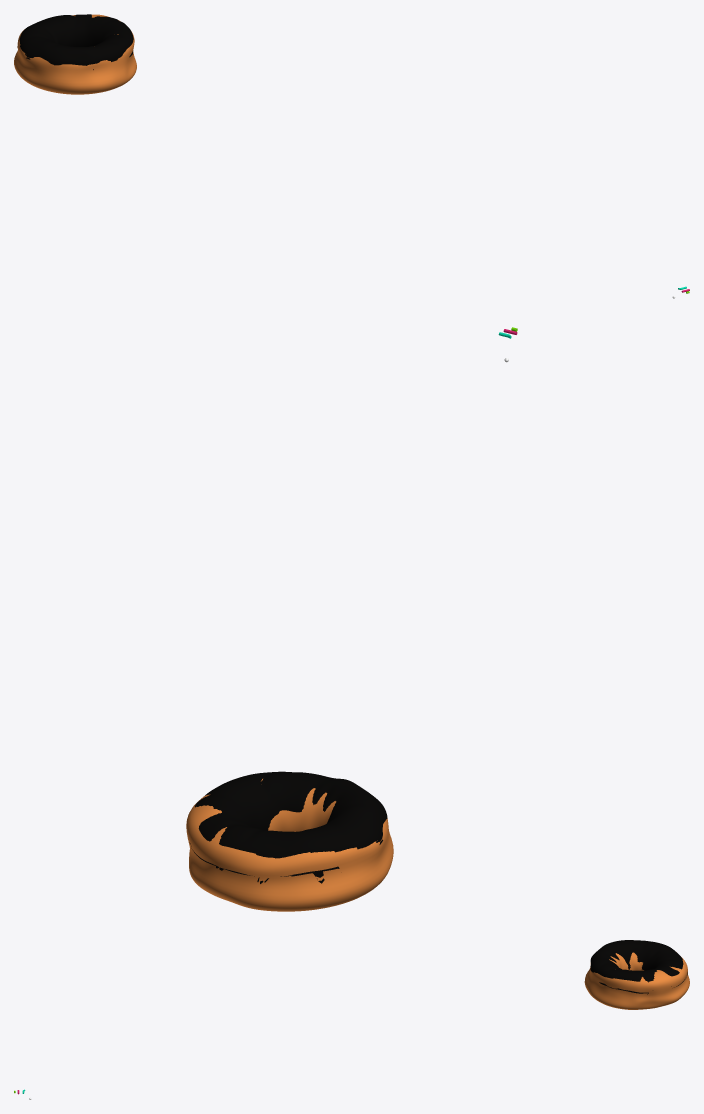
Rendered from donut.glb.
3 renders of one model, top to bottom at view 1: azimuth 30°, elevation 25°; view 2: azimuth 150°, elevation 25°; view 3: azimuth 270°, elevation 25°, orthographic. The views are drawn at different scales.
Parts seen in each view (by area): view 1: Torus.001, Torus.002; view 2: Torus.002, Torus.001; view 3: Torus.002, Torus.001.
Part boxes in pixels (left/top/right/bottom): Torus.001: left=17, top=14, right=133, bottom=69; Torus.002: left=14, top=14, right=136, bottom=94; Torus.002: left=186, top=779, right=393, bottom=911; Torus.001: left=189, top=771, right=387, bottom=883; Torus.002: left=584, top=952, right=689, bottom=1009; Torus.001: left=590, top=940, right=687, bottom=994.
Size of the model in its own units: 4.12 by 0.7902 by 9.79.
